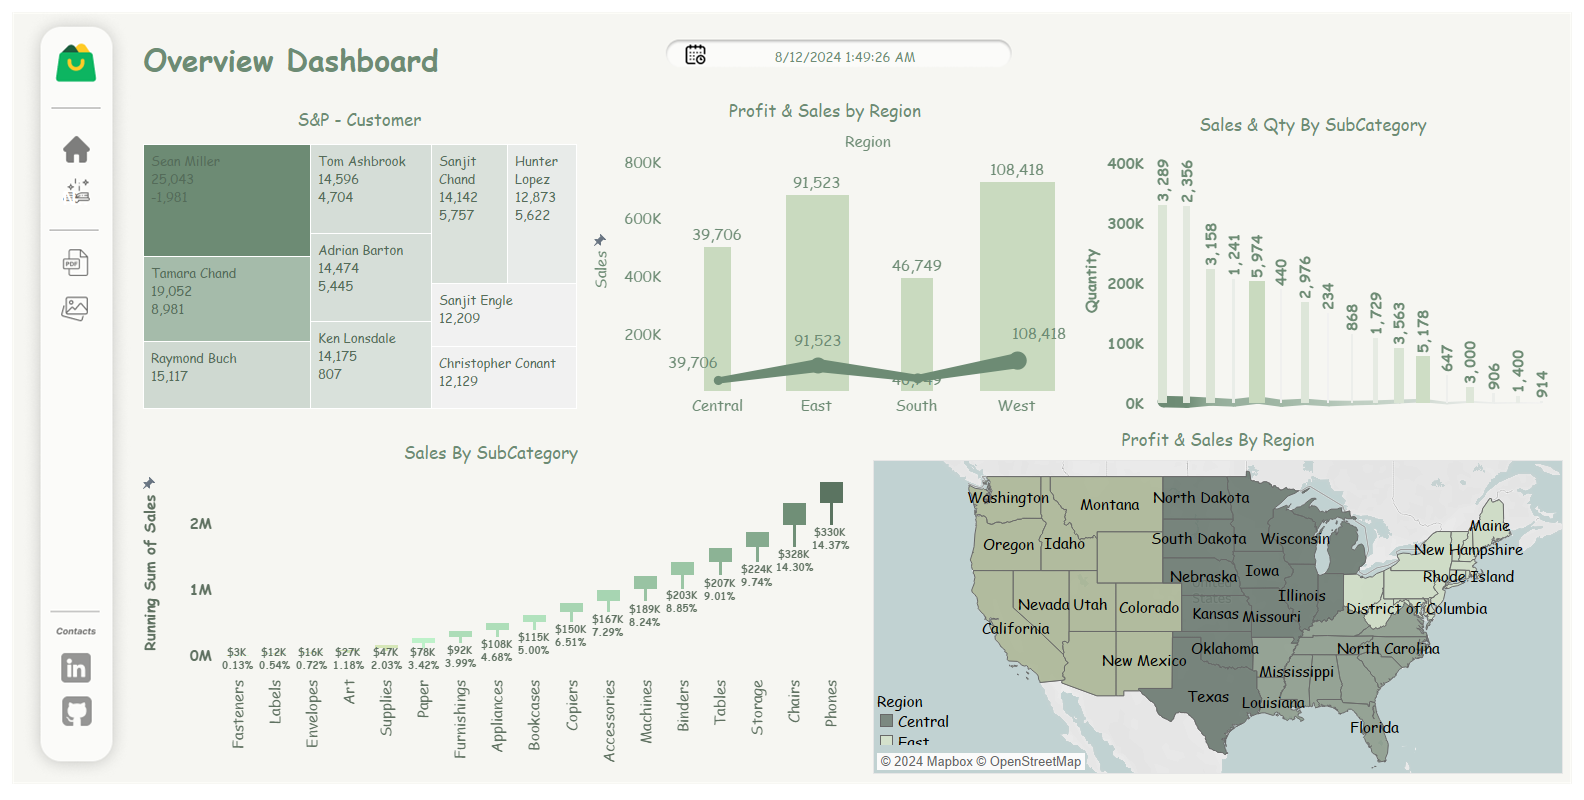

The page's visual inventory and layout, read from the dashboard file:
{"tool":"tableau","page":{"name":"OverViewDashboard","canvas":[1584,800],"ordinal":0},"visuals":[{"type":"image","param":"Image/Overview Dashboard (1).png","box":[8,8,1568,784]},{"type":"text","box":[140,38,303,42]},{"type":"worksheet","title":"Time","mark":"Automatic","box":[725,42,240,19]},{"type":"worksheet","title":"Profit & Sales by Region","mark":"Bar","rows":["Sales","Profit"],"cols":["Region"],"box":[583,92,484,324]},{"type":"worksheet","title":"S&P - Customer","mark":"Automatic","box":[139,101,441,366]},{"type":"worksheet","title":"SubCat by Sales & Qty","mark":"Line","rows":["Quantity","Sales"],"cols":["Sub-Category"],"box":[1073,106,480,313]},{"type":"dashboard-object","box":[61,130,31,33]},{"type":"dashboard-object","box":[60,180,31,33]},{"type":"dashboard-object","box":[61,248,32,32]},{"type":"dashboard-object","box":[59,290,32,36]},{"type":"worksheet","title":"Map","mark":"Multipolygon","box":[873,421,690,353]},{"type":"worksheet","title":"Sales By SubCategory","mark":"GanttBar","rows":["Sales","Sales"],"cols":["Sub-Category"],"box":[132,434,718,340]},{"type":"image","box":[56,653,42,31]},{"type":"legend","title":"Map","param":"[federated.11g5d8b0cuhx2g1dkkhfw1t3i63i].[none:Region:nk]","box":[876,688,100,57]},{"type":"image","box":[56,694,37,32]}]}

Visuals, with their boxes on the page's 1584x800 design canvas (x1, y1, x2, y2). These are canvas units, not pixel positions in the 1584x800 screenshot, which may show the page scaled, cropped or inside an application window:
image: l=8, t=8, r=1576, b=792
text: l=140, t=38, r=443, b=80
"Time" worksheet: l=725, t=42, r=965, b=61
"Profit & Sales by Region" worksheet (Bar marks): l=583, t=92, r=1067, b=416
"S&P - Customer" worksheet: l=139, t=101, r=580, b=467
"SubCat by Sales & Qty" worksheet (Line marks): l=1073, t=106, r=1553, b=419
dashboard-object: l=61, t=130, r=92, b=163
dashboard-object: l=60, t=180, r=91, b=213
dashboard-object: l=61, t=248, r=93, b=280
dashboard-object: l=59, t=290, r=91, b=326
"Map" worksheet (Multipolygon marks): l=873, t=421, r=1563, b=774
"Sales By SubCategory" worksheet (GanttBar marks): l=132, t=434, r=850, b=774
image: l=56, t=653, r=98, b=684
"Map" legend: l=876, t=688, r=976, b=745
image: l=56, t=694, r=93, b=726
